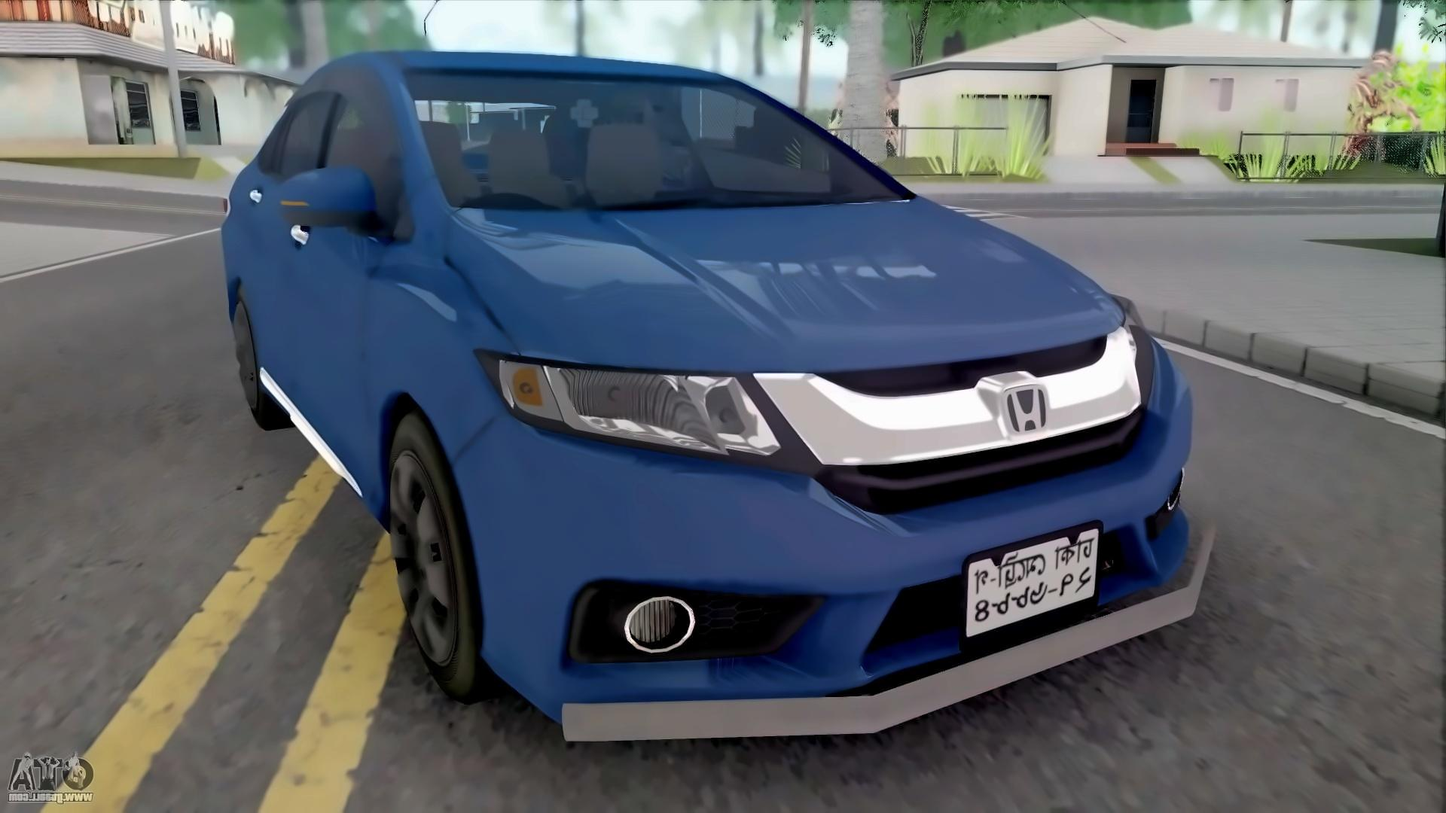Car hood: (437, 199, 1130, 380)
Driver-s door - -F-R-: (294, 61, 414, 494)
Fender - -F-R-: (359, 156, 521, 576), (352, 226, 525, 532)
Front bumper: (443, 380, 1220, 751)
Headlight - -L-: (1105, 281, 1171, 350)
Headlight - -R-: (471, 341, 806, 485)
Passenger-s door - -R-R-: (240, 67, 339, 449)
Side bumper - -R-: (236, 352, 395, 571)
Side mirror - -R-: (254, 153, 398, 252)
